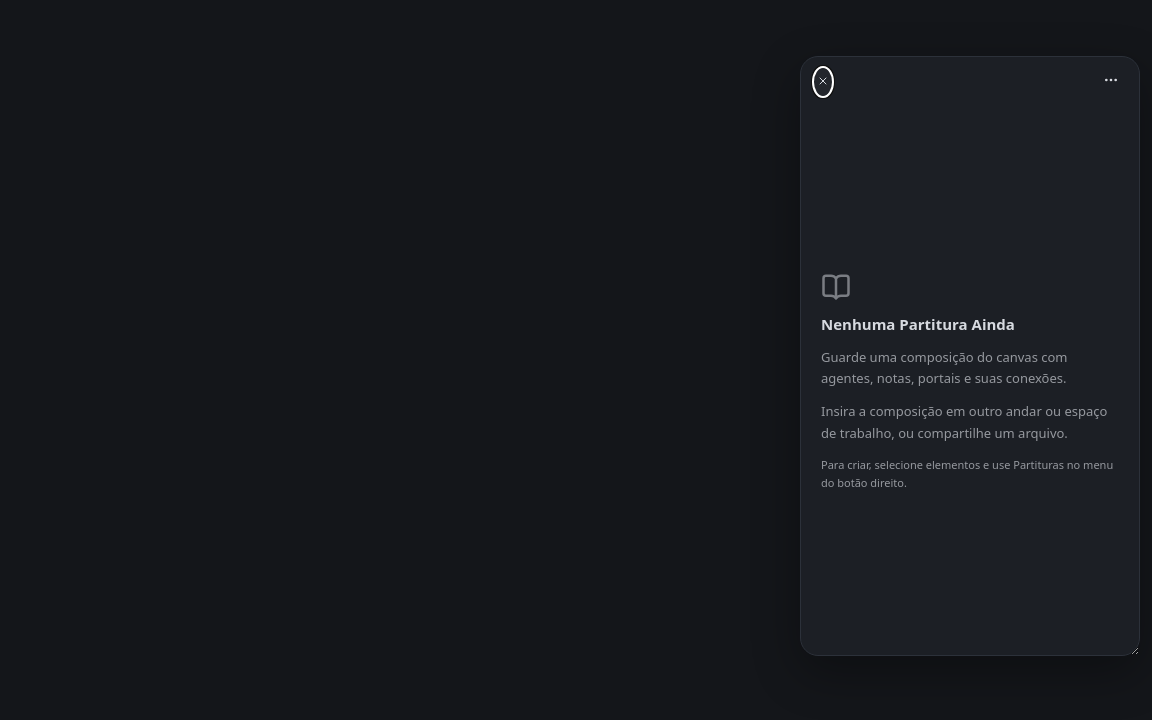
Scenario: cria pelo menu e mantém texto das notas no formulário de salvar
Click the button named "Ações das partituras" at (1111, 82), box [1095,67,1127,97]
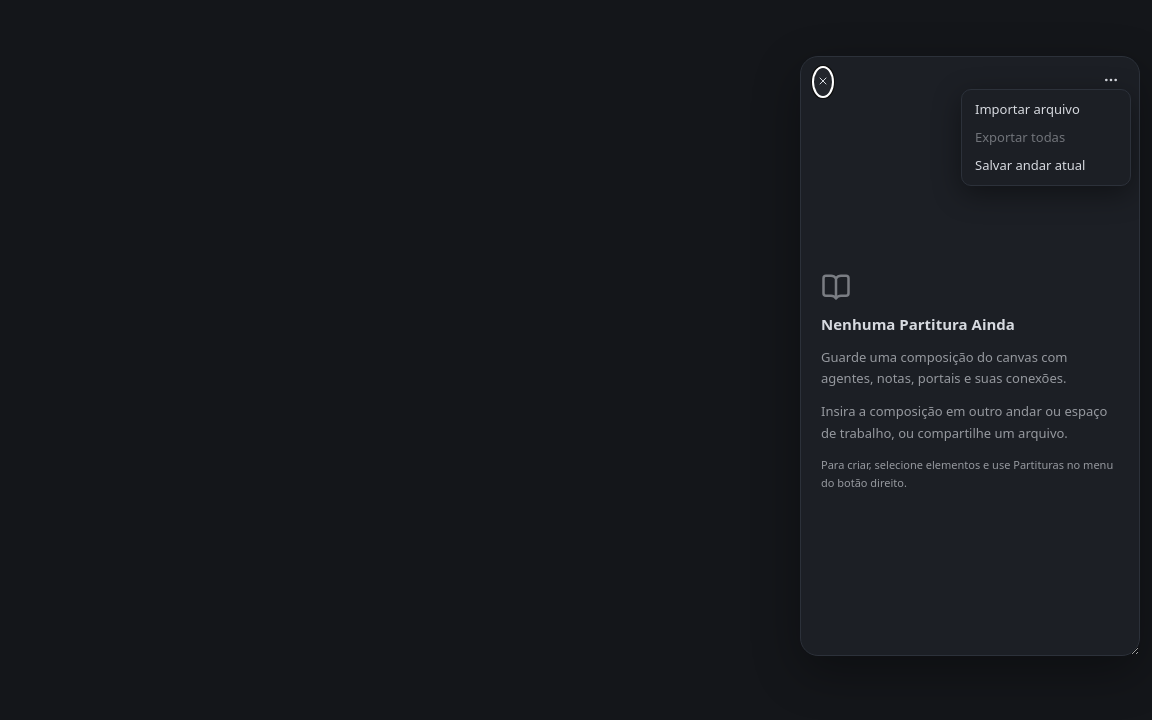
Result: the menu item "Salvar andar atual" is shown
Click the menu item "Salvar andar atual" at (1046, 166), box [967,151,1125,180]
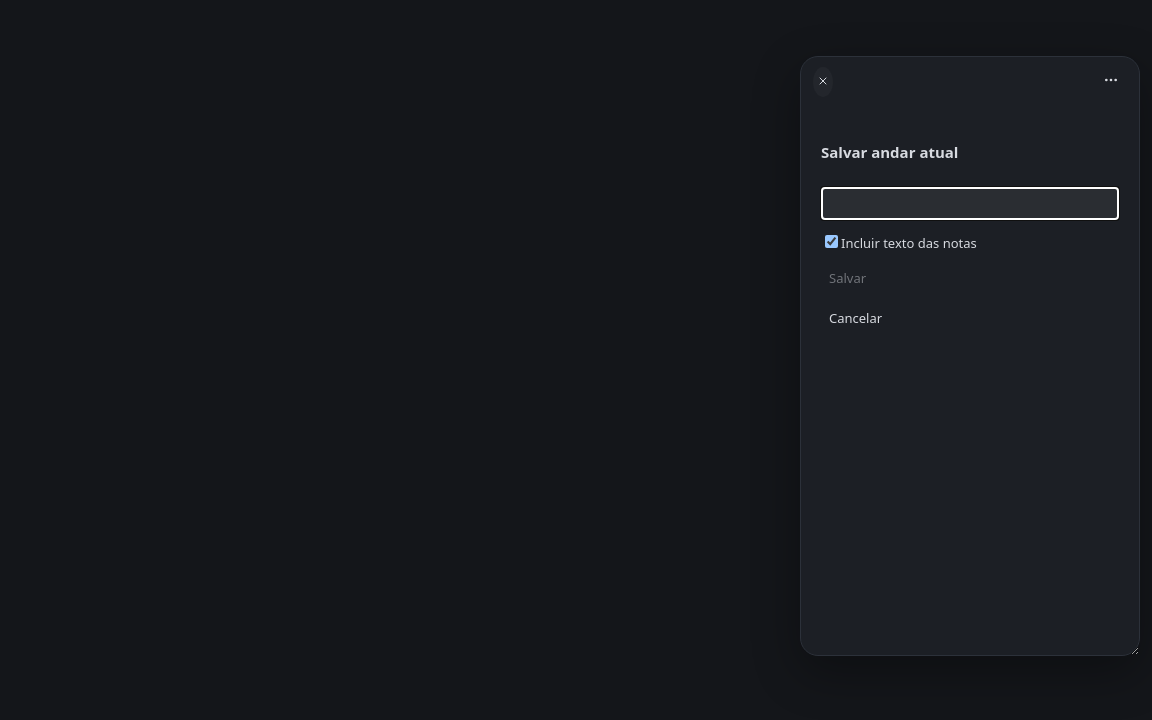
Result: the form is shown at [801,109,1139,353]
Result: the text "Incluir texto das notas" is shown at [825,234,977,252]
